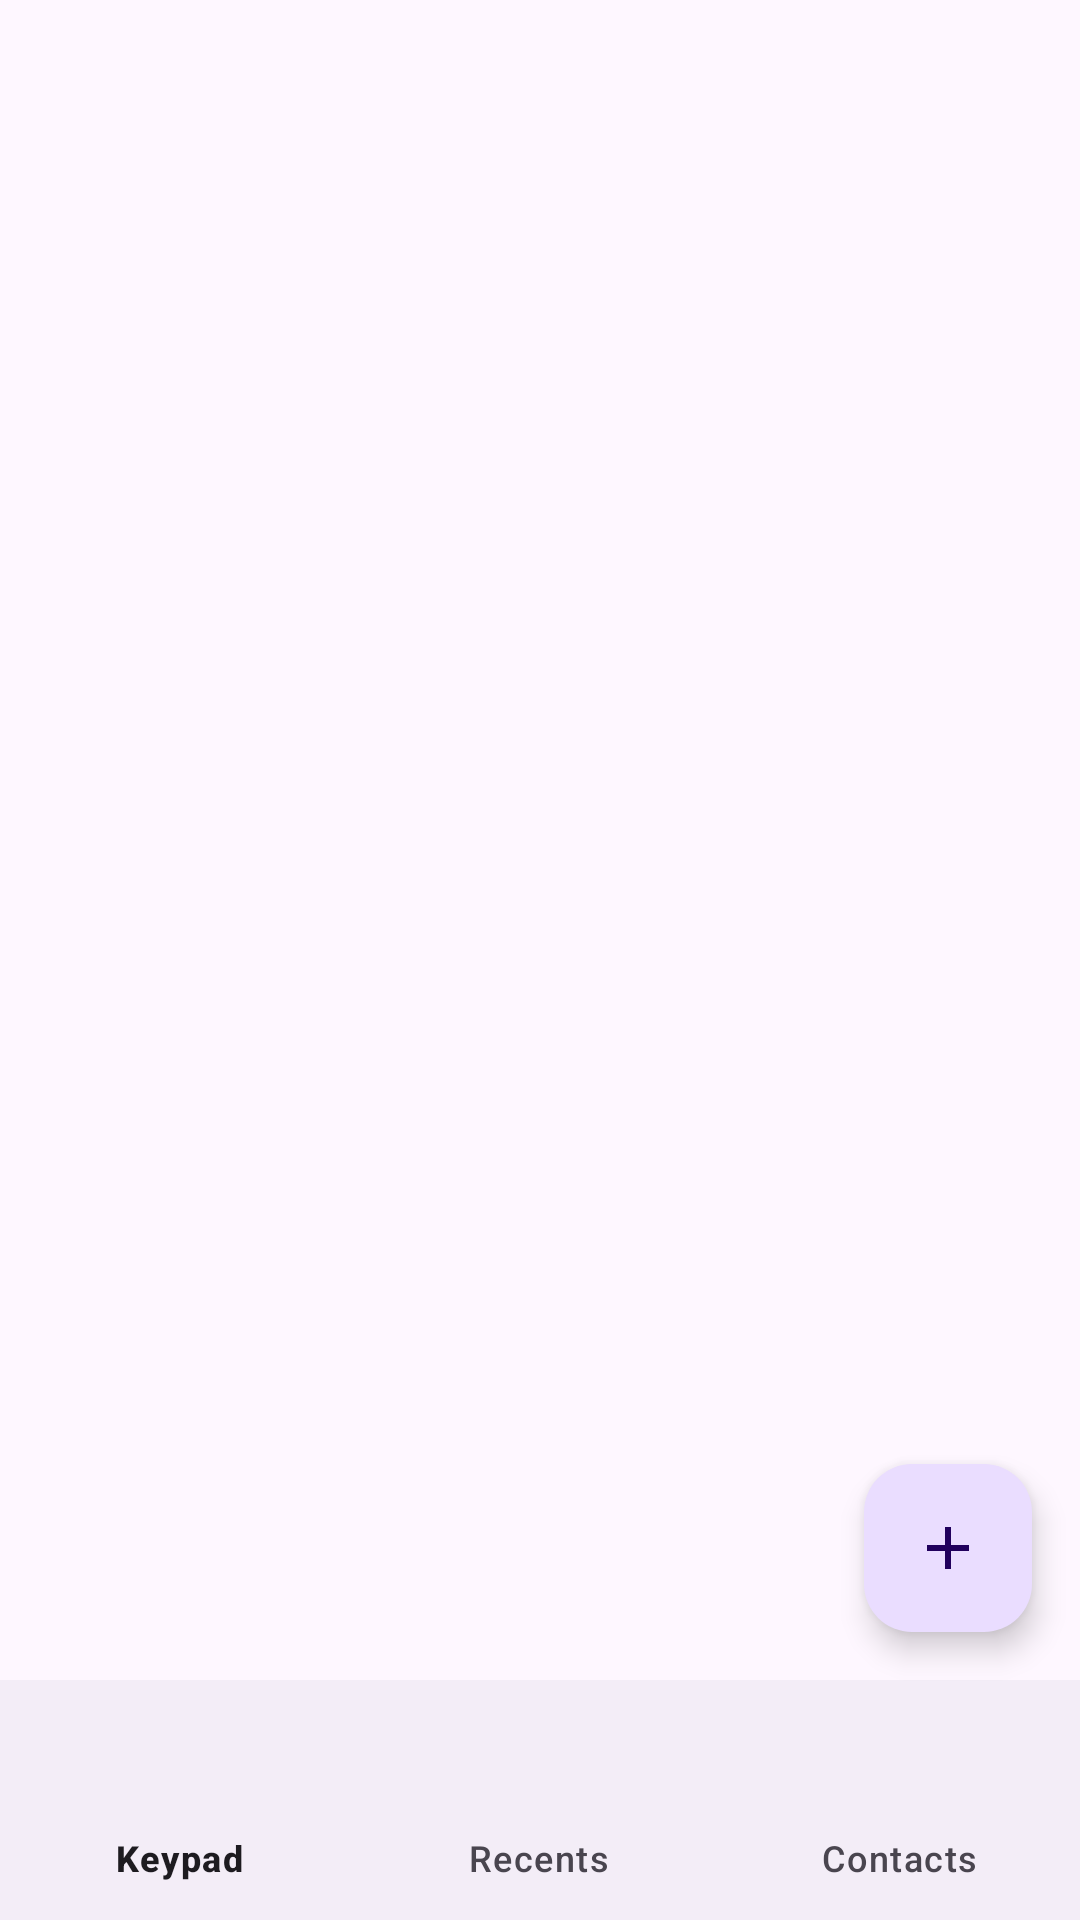

Icons on this 1080 x 1920 Android screen, each with its box as {"left": x1, "top": y1, "right": x2, "bottom": y2}:
Add Contacts: {"left": 864, "top": 1464, "right": 1032, "bottom": 1632}
